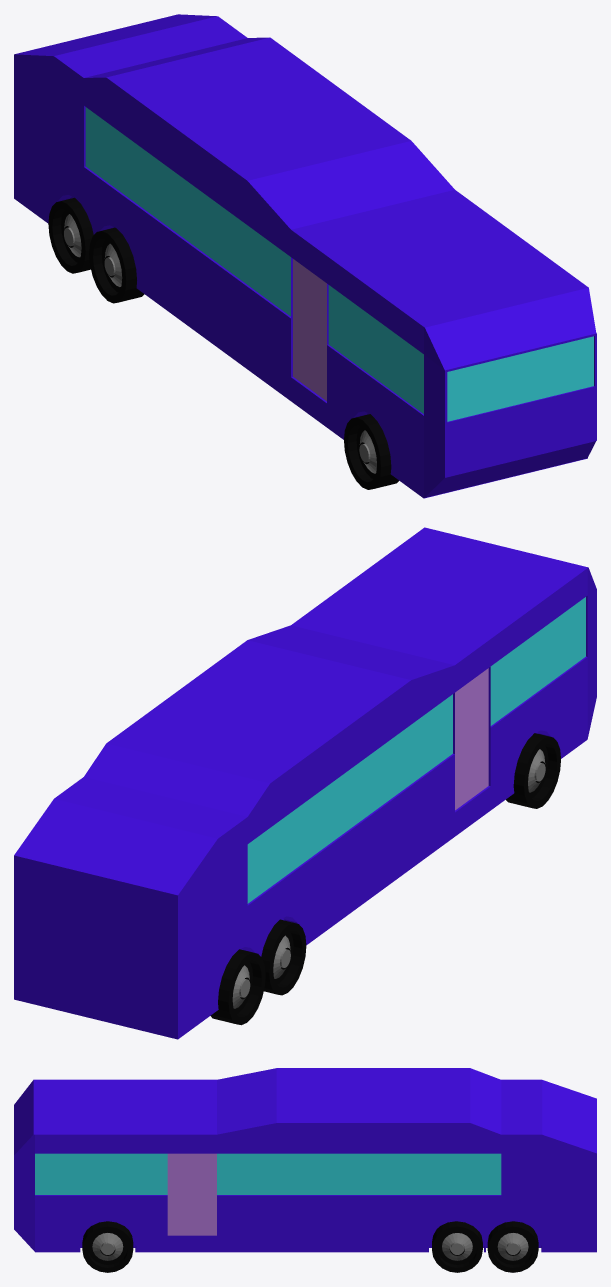
The model's file is Bus.fbx.
3 renders of one model, top to bottom at view 1: azimuth 30°, elevation 25°; view 2: azimuth 150°, elevation 25°; view 3: azimuth 270°, elevation 25°, orthographic. The views are drawn at different scales.
Parts seen in each view (by area): view 1: Cube, Cylinder.003, Cylinder.001, Cylinder.005; view 2: Cube, Cylinder.005, Cylinder.001, Cylinder.003; view 3: Cube, Cylinder.001, Cylinder.005, Cylinder.003.
Part boxes in pixels (x1,y1,x2,y2): Cube: [14, 14, 596, 498]; Cylinder.003: [89, 227, 144, 303]; Cylinder.001: [344, 414, 398, 489]; Cylinder.005: [48, 197, 93, 273]; Cube: [14, 527, 596, 1039]; Cylinder.005: [210, 949, 265, 1025]; Cylinder.001: [506, 733, 560, 808]; Cylinder.003: [261, 919, 306, 995]; Cube: [14, 1068, 596, 1252]; Cylinder.001: [82, 1221, 133, 1272]; Cylinder.005: [487, 1221, 538, 1272]; Cylinder.003: [432, 1221, 482, 1272].
Size of the model in its own units: 220 by 250 by 898.
